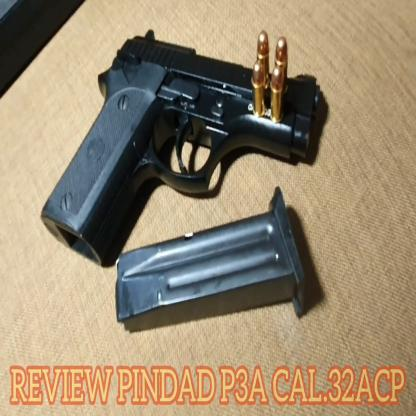handgun: (36, 27, 330, 272)
